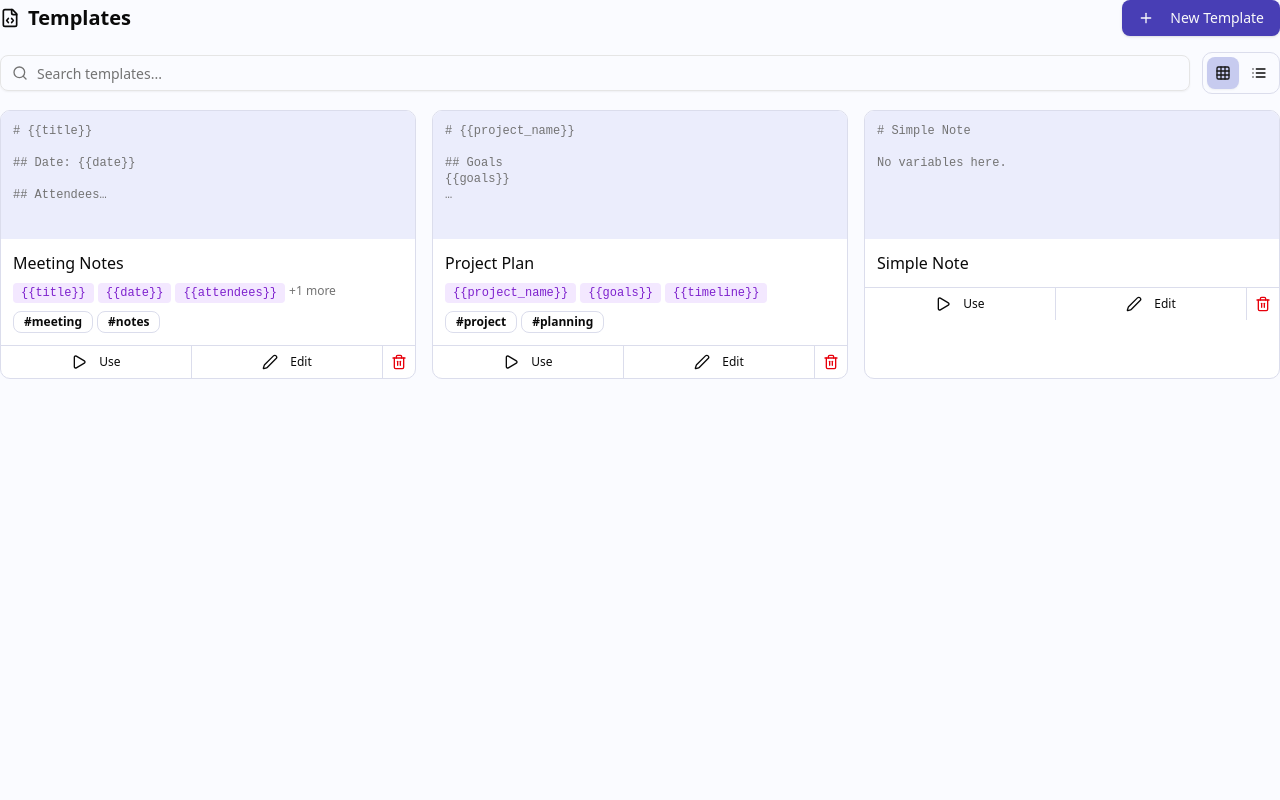
it: TemplateManager › Delete Template › should cancel delete on Cancel click
Expected: the heading "Meeting Notes" is shown, [13,252,124,274]
Click the button without text below "more": {"x": 398, "y": 362} [382,346,415,378]
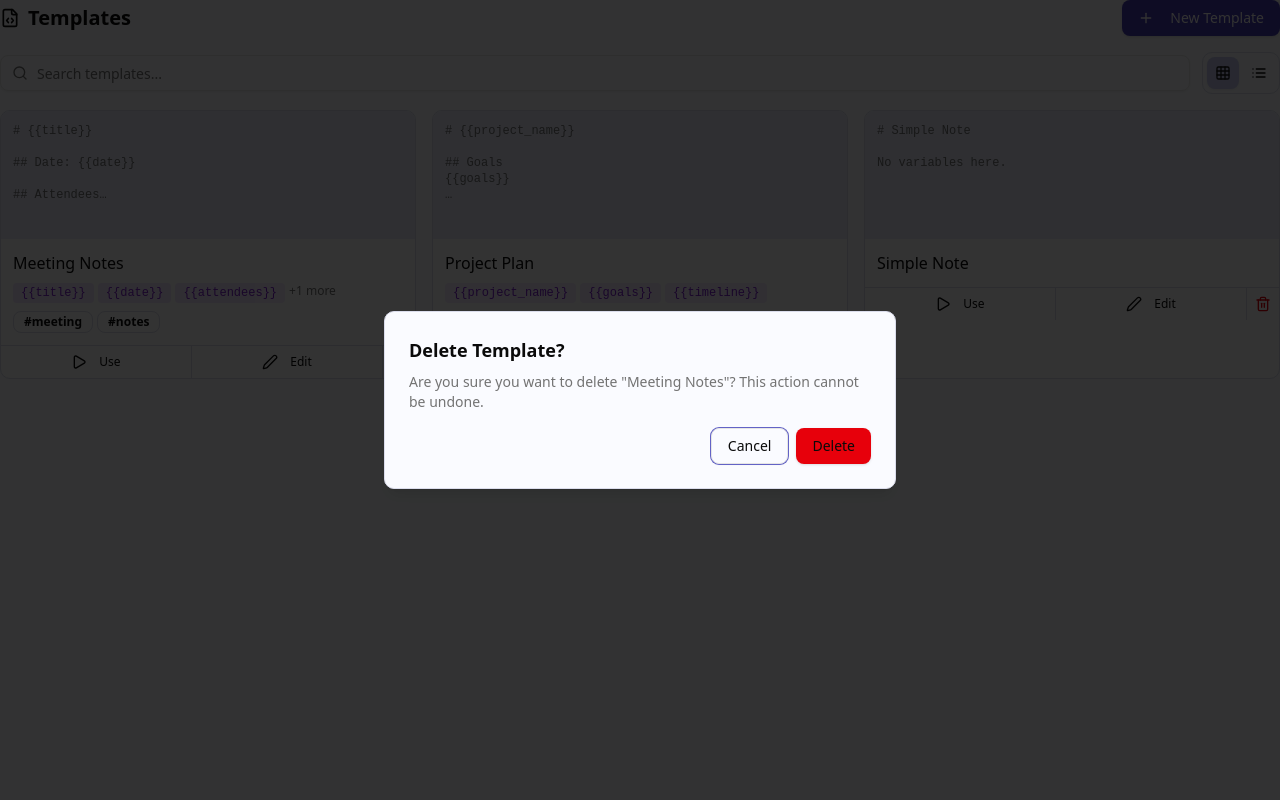
Now the dialog is shown, box [384,311,896,489]
Click the button "Cancel": {"x": 750, "y": 446} [711,428,788,464]
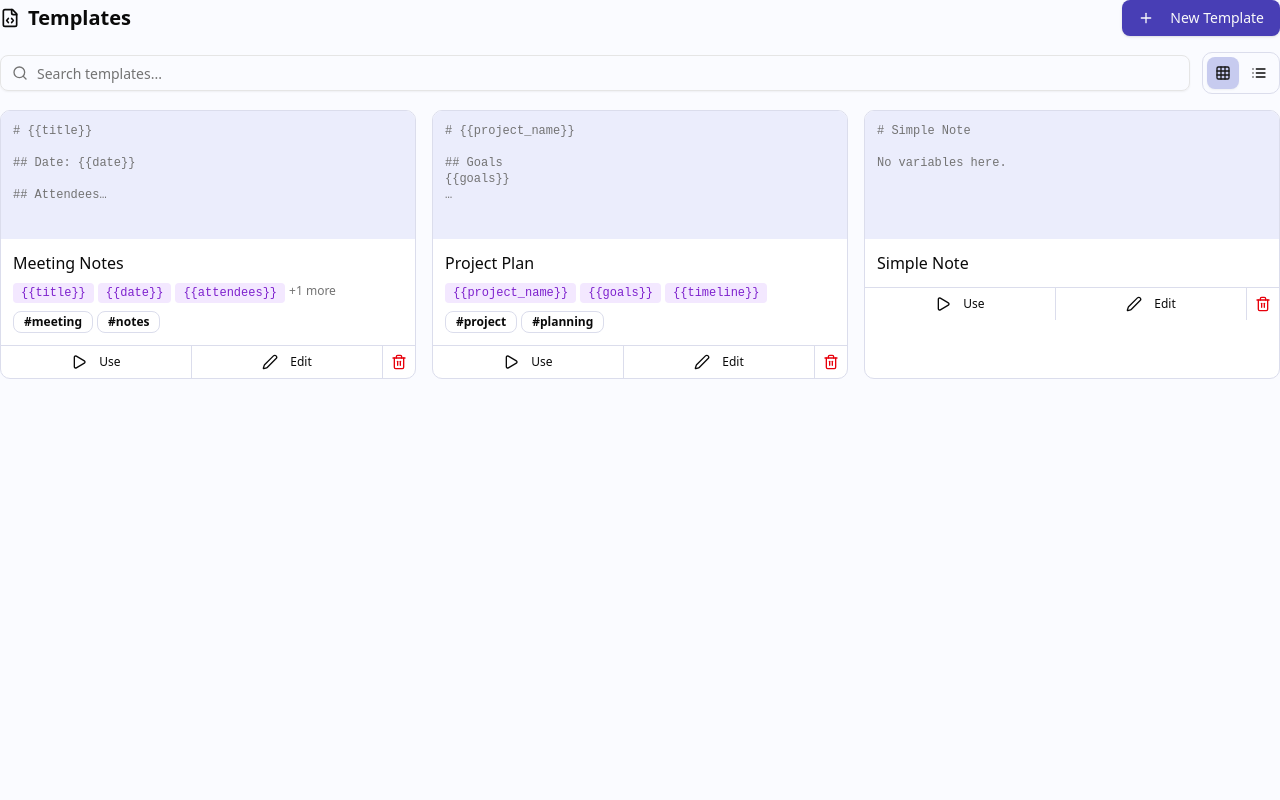
Now the dialog is gone
